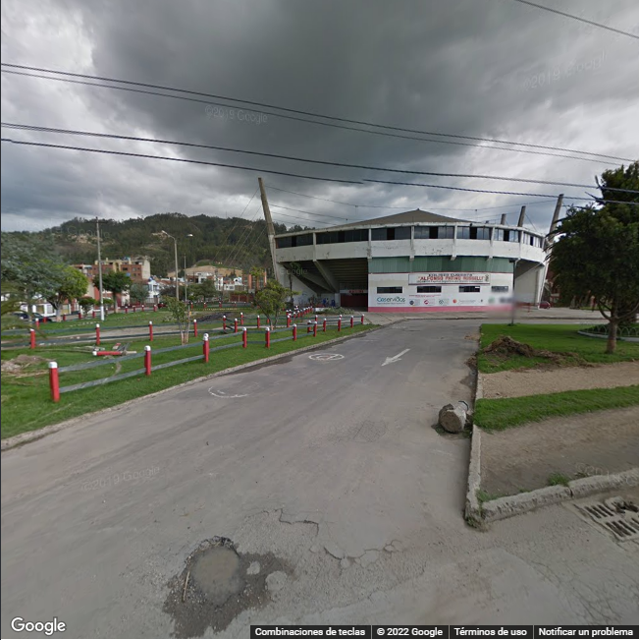D40: (182, 534, 252, 605)
